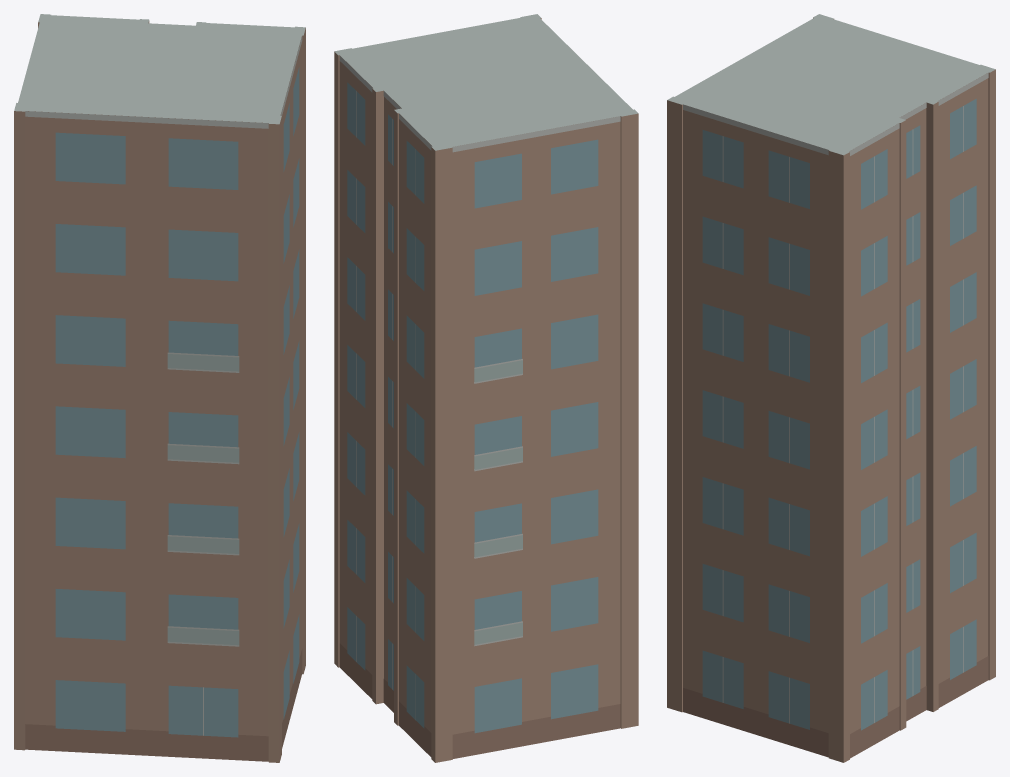
File: survey-upis-32624401.glb
3 views of the same model, side by side, from view 1: azimuth 30°, elevation 25°; view 2: azimuth 150°, elevation 25°; view 3: azimuth 270°, elevation 25° (orthographic). The views are drawn at different scales.
Visible parts, largest first — view 1: survey-upis-32624401.tmp; view 2: survey-upis-32624401.tmp; view 3: survey-upis-32624401.tmp.
Boxes of the visible parts, x1,y1,x2,y2 form: survey-upis-32624401.tmp: (14,14,305,762); survey-upis-32624401.tmp: (334,14,638,762); survey-upis-32624401.tmp: (667,14,995,762).
Size of the model in its own units: 13.53 by 27.1 by 13.29.
